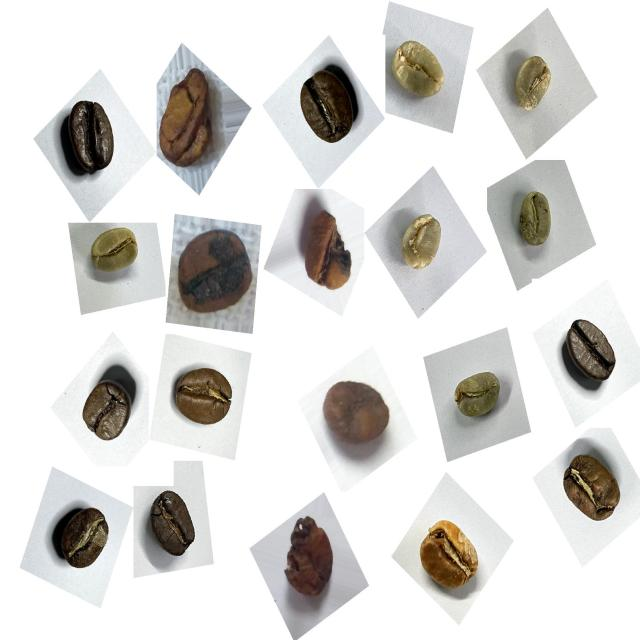bad: (168, 219, 261, 327), (149, 62, 234, 180), (316, 367, 398, 463), (272, 507, 345, 614), (292, 193, 362, 300)
dark: (50, 86, 127, 187), (46, 496, 118, 586), (556, 316, 618, 389)
green: (382, 30, 454, 117), (388, 204, 452, 283), (500, 44, 561, 124), (446, 354, 510, 430), (81, 220, 147, 289), (506, 182, 564, 258)
light: (403, 506, 488, 606)
medium: (289, 59, 362, 159), (551, 444, 629, 536), (71, 364, 145, 453), (165, 357, 244, 440), (141, 484, 204, 568)
